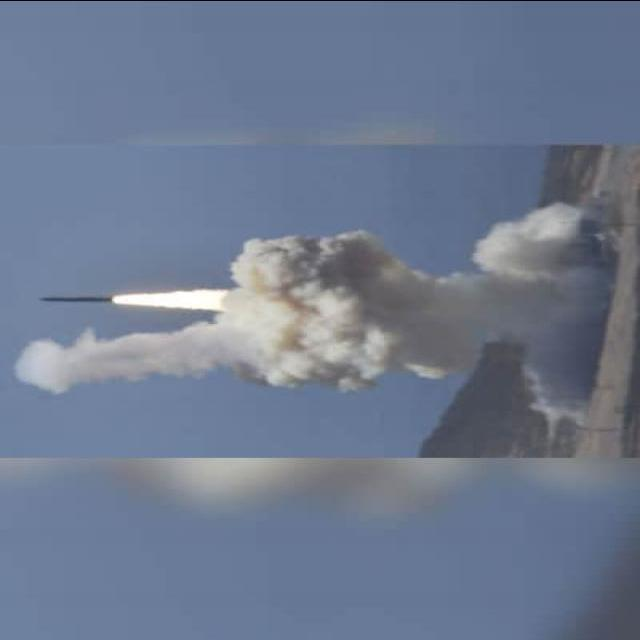missile: (38, 294, 118, 303)
